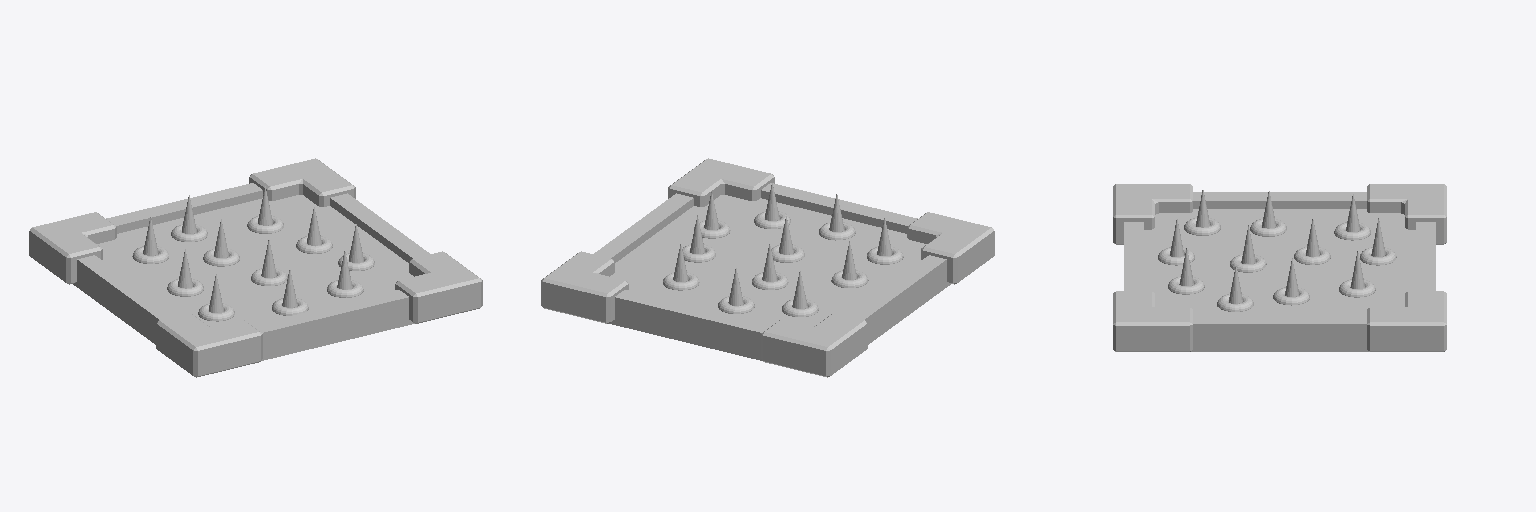
The model's file is pinxos_escalado.obj.
The picture shows the model from 3 angles: view 1: azimuth 30°, elevation 25°; view 2: azimuth 150°, elevation 25°; view 3: azimuth 270°, elevation 25°; orthographic projection.
Parts seen in each view (by area): view 1: pinxo_low_BUENO:pCube17 polySurface35, pinxo_low_BUENO:pCube17 polySurface62, polySurface38 pinxo_low_BUENO:pCube17, pinxo_low_BUENO:pCube17 polySurface42, pinxo_low_BUENO:pCube17 polySurface60, pinxo_low_BUENO:pCube17 polySurface39, pinxo_low_BUENO:pCube17 polySurface64, pinxo_low_BUENO:pCube17 polySurface65, pinxo_low_BUENO:pCube17 polySurface63; view 2: pinxo_low_BUENO:pCube17 polySurface35, pinxo_low_BUENO:pCube17 polySurface65, pinxo_low_BUENO:pCube17 polySurface60, pinxo_low_BUENO:pCube17 polySurface64, polySurface38 pinxo_low_BUENO:pCube17, pinxo_low_BUENO:pCube17 polySurface39, pinxo_low_BUENO:pCube17 polySurface42, pinxo_low_BUENO:pCube17 polySurface62, pinxo_low_BUENO:pCube17 polySurface63; view 3: pinxo_low_BUENO:pCube17 polySurface35, pinxo_low_BUENO:pCube17 polySurface63, pinxo_low_BUENO:pCube17 polySurface64, pinxo_low_BUENO:pCube17 polySurface42, polySurface38 pinxo_low_BUENO:pCube17, pinxo_low_BUENO:pCube17 polySurface60, pinxo_low_BUENO:pCube17 polySurface39, pinxo_low_BUENO:pCube17 polySurface65, pinxo_low_BUENO:pCube17 polySurface62.
Boxes of the visible parts, <box> form: pinxo_low_BUENO:pCube17 polySurface35: <box>97,195,413,325</box>; pinxo_low_BUENO:pCube17 polySurface62: <box>252,290,414,360</box>; polySurface38 pinxo_low_BUENO:pCube17: <box>156,313,262,377</box>; pinxo_low_BUENO:pCube17 polySurface42: <box>395,251,482,323</box>; pinxo_low_BUENO:pCube17 polySurface60: <box>29,212,116,284</box>; pinxo_low_BUENO:pCube17 polySurface39: <box>73,255,176,344</box>; pinxo_low_BUENO:pCube17 polySurface64: <box>249,158,355,206</box>; pinxo_low_BUENO:pCube17 polySurface65: <box>106,183,262,233</box>; pinxo_low_BUENO:pCube17 polySurface63: <box>330,193,429,262</box>; pinxo_low_BUENO:pCube17 polySurface35: <box>610,195,926,325</box>; pinxo_low_BUENO:pCube17 polySurface65: <box>609,290,771,360</box>; pinxo_low_BUENO:pCube17 polySurface60: <box>761,313,867,377</box>; pinxo_low_BUENO:pCube17 polySurface64: <box>541,251,628,323</box>; polySurface38 pinxo_low_BUENO:pCube17: <box>907,212,994,284</box>; pinxo_low_BUENO:pCube17 polySurface39: <box>847,255,950,344</box>; pinxo_low_BUENO:pCube17 polySurface42: <box>668,158,774,206</box>; pinxo_low_BUENO:pCube17 polySurface62: <box>761,183,917,233</box>; pinxo_low_BUENO:pCube17 polySurface63: <box>594,193,693,262</box>; pinxo_low_BUENO:pCube17 polySurface35: <box>1144,209,1415,315</box>; pinxo_low_BUENO:pCube17 polySurface63: <box>1191,316,1368,351</box>; pinxo_low_BUENO:pCube17 polySurface64: <box>1367,291,1446,351</box>; pinxo_low_BUENO:pCube17 polySurface42: <box>1113,291,1192,351</box>; polySurface38 pinxo_low_BUENO:pCube17: <box>1113,184,1192,244</box>; pinxo_low_BUENO:pCube17 polySurface60: <box>1367,184,1446,244</box>; pinxo_low_BUENO:pCube17 polySurface39: <box>1193,192,1366,208</box>; pinxo_low_BUENO:pCube17 polySurface65: <box>1416,222,1435,290</box>; pinxo_low_BUENO:pCube17 polySurface62: <box>1124,222,1143,290</box>.
Bounding box in the file's own units: 205 × 40.93 × 205.